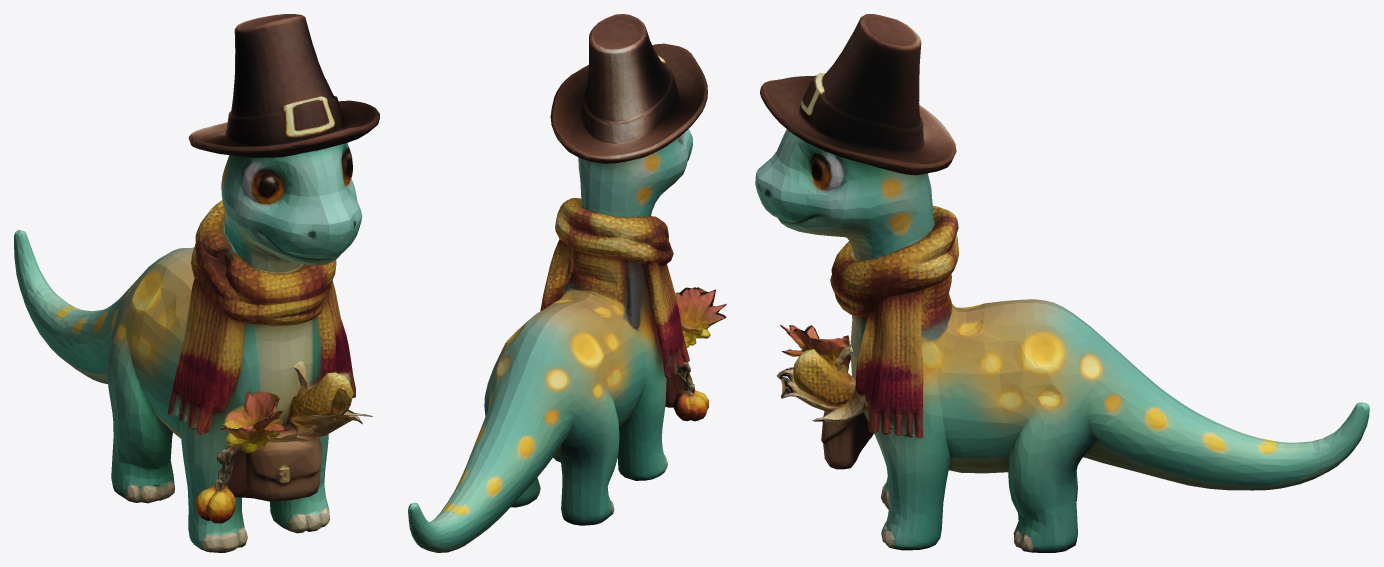
Rendered from thanksgiving.glb.
3 views of the same model, side by side, from view 1: azimuth 30°, elevation 25°; view 2: azimuth 150°, elevation 25°; view 3: azimuth 270°, elevation 25° (orthographic). The views are drawn at different scales.
Visible parts, largest first — view 1: world; view 2: world; view 3: world.
Boxes of the visible parts, <box> form: world: <box>14,14,379,552</box>; world: <box>408,14,726,552</box>; world: <box>755,14,1369,552</box>.
Size of the model in its own units: 0.3222 by 0.9064 by 0.9996.
1 material, 1 textured.
